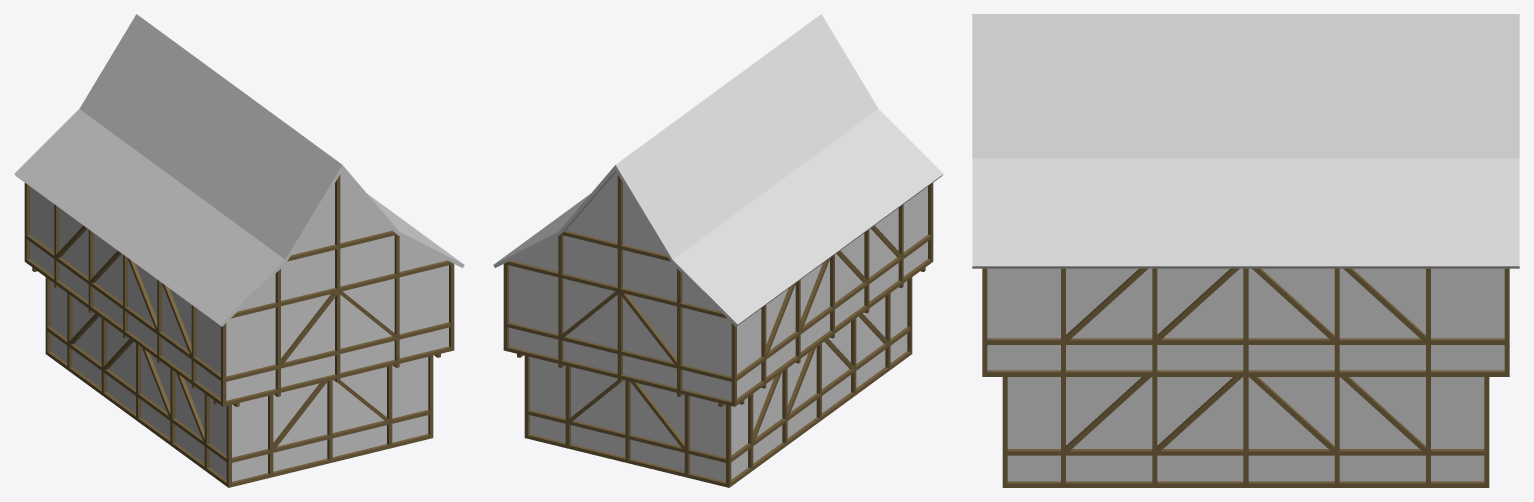
The model's file is HouseLong.fbx.
The picture shows the model from 3 angles, left to right: view 1: azimuth 30°, elevation 25°; view 2: azimuth 150°, elevation 25°; view 3: azimuth 270°, elevation 25°; orthographic projection. The views are drawn at different scales.
Parts seen in each view (by area): view 1: HouseBase1, HouseLong_Frame; view 2: HouseBase1, HouseLong_Frame; view 3: HouseBase1, HouseLong_Frame.
Boxes of the visible parts, <box> form: HouseBase1: <box>14,14,464,481</box>; HouseLong_Frame: <box>24,175,454,487</box>; HouseBase1: <box>493,14,943,481</box>; HouseLong_Frame: <box>503,175,933,487</box>; HouseBase1: <box>972,14,1519,481</box>; HouseLong_Frame: <box>982,268,1509,487</box>.
Bounding box in the file's own units: 37.02 × 44.34 × 54.
